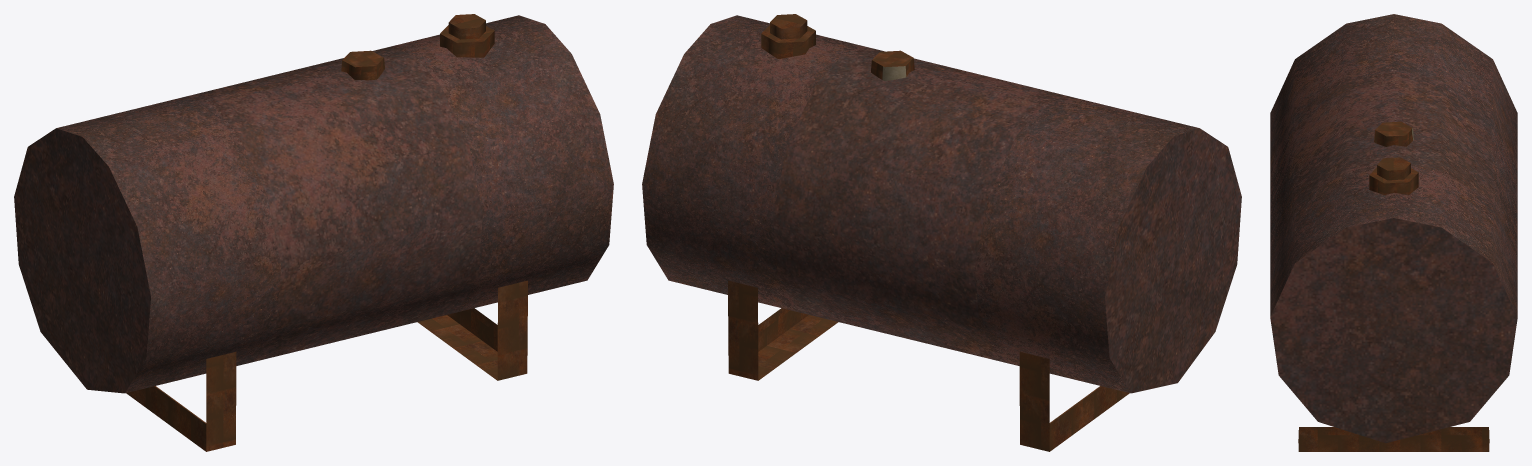
File: SM_FuelTank.fbx
3 renders of one model, left to right at view 1: azimuth 30°, elevation 25°; view 2: azimuth 150°, elevation 25°; view 3: azimuth 270°, elevation 25°, orthographic. The views are drawn at different scales.
Visible parts, largest first — view 1: polySurface399; view 2: polySurface399; view 3: polySurface399.
Part boxes in pixels (box(x1,y1,x2,y2)): polySurface399: box(14, 14, 613, 451); polySurface399: box(642, 14, 1241, 451); polySurface399: box(1270, 14, 1517, 451).
Bounding box in the file's own units: 3.59 × 2.31 × 1.82.
